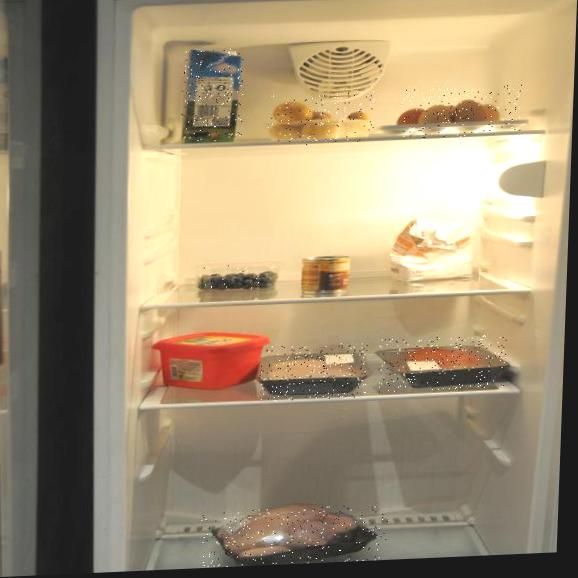chicken: (200, 504, 389, 568)
eggs: (399, 85, 523, 140)
meat: (378, 334, 507, 393), (258, 342, 368, 402)
milk: (180, 48, 245, 143)
olive: (203, 263, 274, 290)
potatoes: (266, 90, 375, 147)
